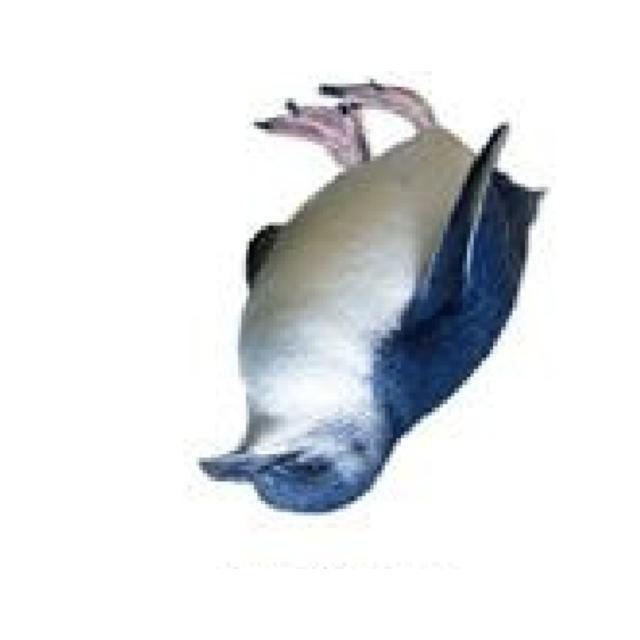penguin: (198, 79, 549, 516)
